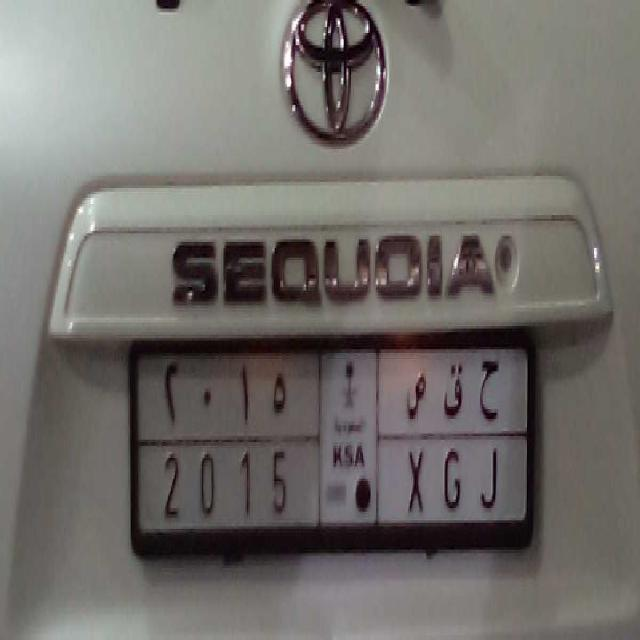license_plate: (143, 433, 517, 538)
